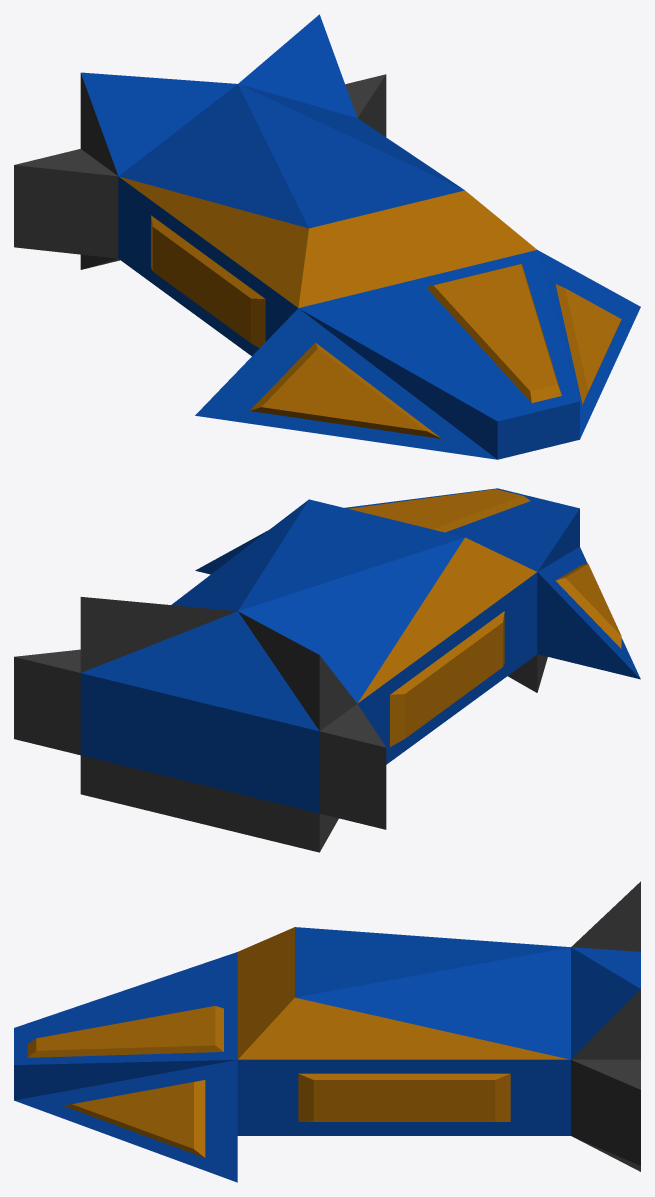
The model's file is PlayerShip.fbx.
3 renders of one model, top to bottom at view 1: azimuth 30°, elevation 25°; view 2: azimuth 150°, elevation 25°; view 3: azimuth 270°, elevation 25°, orthographic. The views are drawn at different scales.
Visible parts, largest first — view 1: pCube1; view 2: pCube1; view 3: pCube1.
Boxes of the visible parts, box(x1,y1,x2,y2) form: pCube1: box(14, 14, 640, 459); pCube1: box(14, 488, 640, 852); pCube1: box(14, 881, 640, 1182).
Size of the model in its own units: 14.64 by 6.2 by 19.25.
